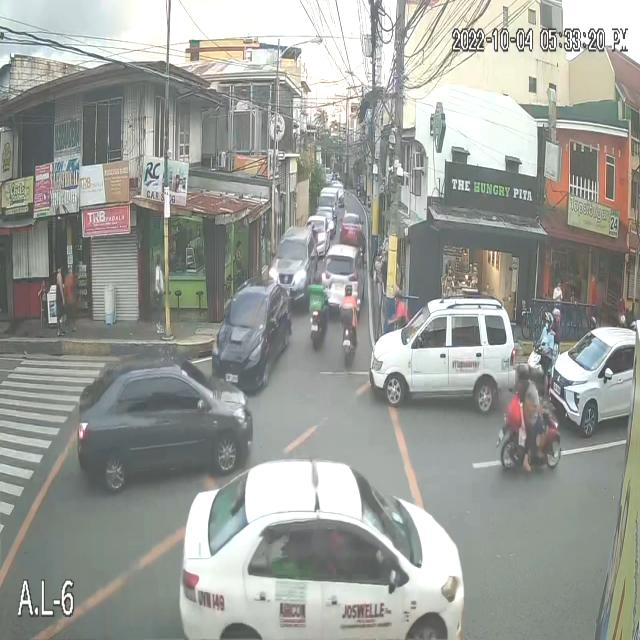Half-Faced: (542, 310, 556, 334)
